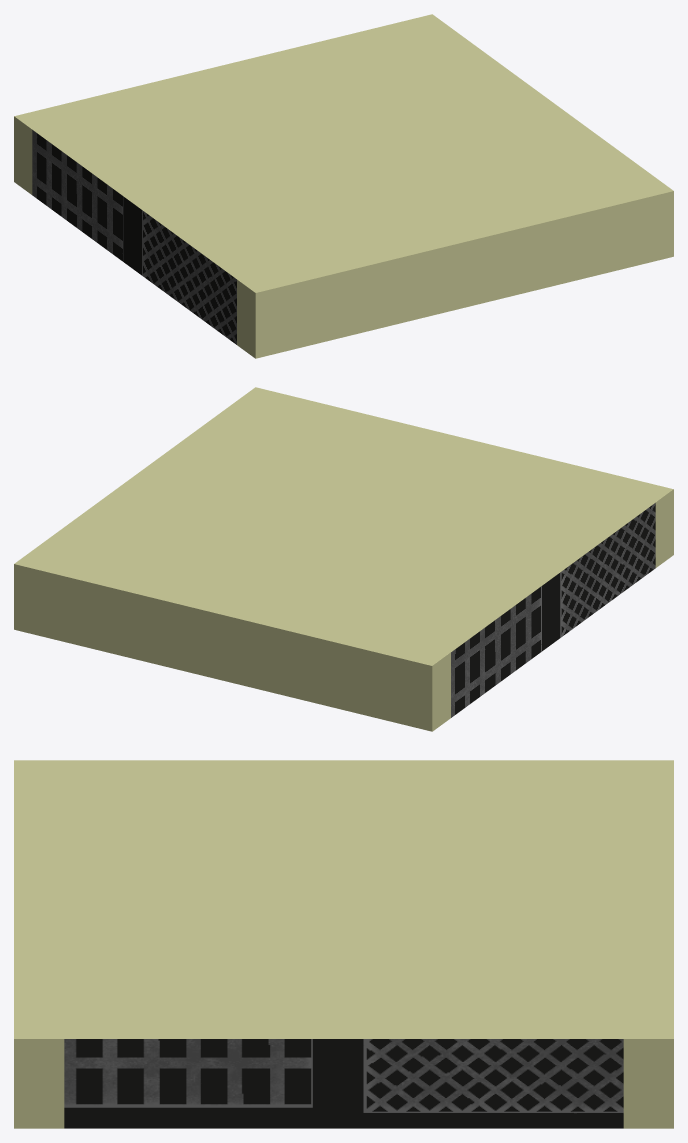
The model's file is Floor_2x2_T2.fbx.
3 renders of one model, top to bottom at view 1: azimuth 30°, elevation 25°; view 2: azimuth 150°, elevation 25°; view 3: azimuth 270°, elevation 25°, orthographic. The views are drawn at different scales.
Visible parts, largest first — view 1: Floor_2x3_T2_1; view 2: Floor_2x3_T2_1; view 3: Floor_2x3_T2_1.
Part boxes in pixels (x1=…): Floor_2x3_T2_1: x1=14, y1=14, x2=673, y2=358; Floor_2x3_T2_1: x1=14, y1=387, x2=673, y2=731; Floor_2x3_T2_1: x1=14, y1=760, x2=673, y2=1128.
Bounding box in the file's own units: 200 × 30 × 200.
